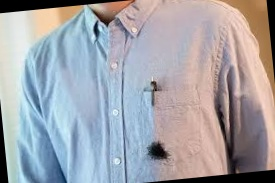ink: (148, 141, 169, 160)
